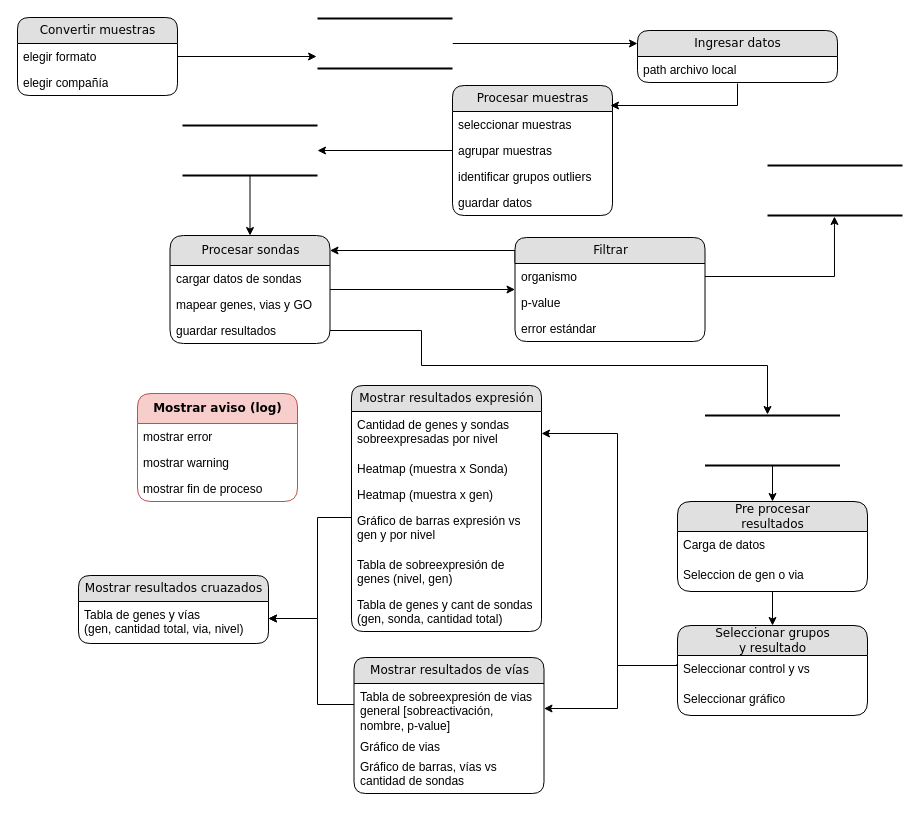
Image size: 921x814. Some labels were removed from this diagram. The centre of each missing label's shape, as x and y in pixels:
"Muestras estandarizadas" goes at (x=384, y=43).
"Sondas e intensidad por grupo" goes at (x=249, y=150).
"Sondas mapeadas" goes at (x=772, y=440).
"Sondas que no pasaron el filtro" goes at (x=834, y=190).
